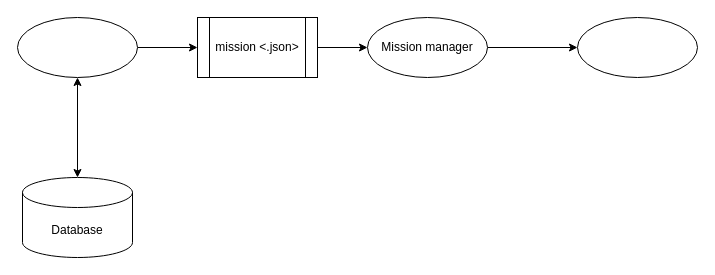
The diagram is 715 pixels wide and 275 high, and some of its shapes have lost their labels. Here are the shapes that lost their labels. From the top down, the centre of each, then its label:
At (x=77, y=47): "GUI".
At (x=637, y=47): "Robot".
